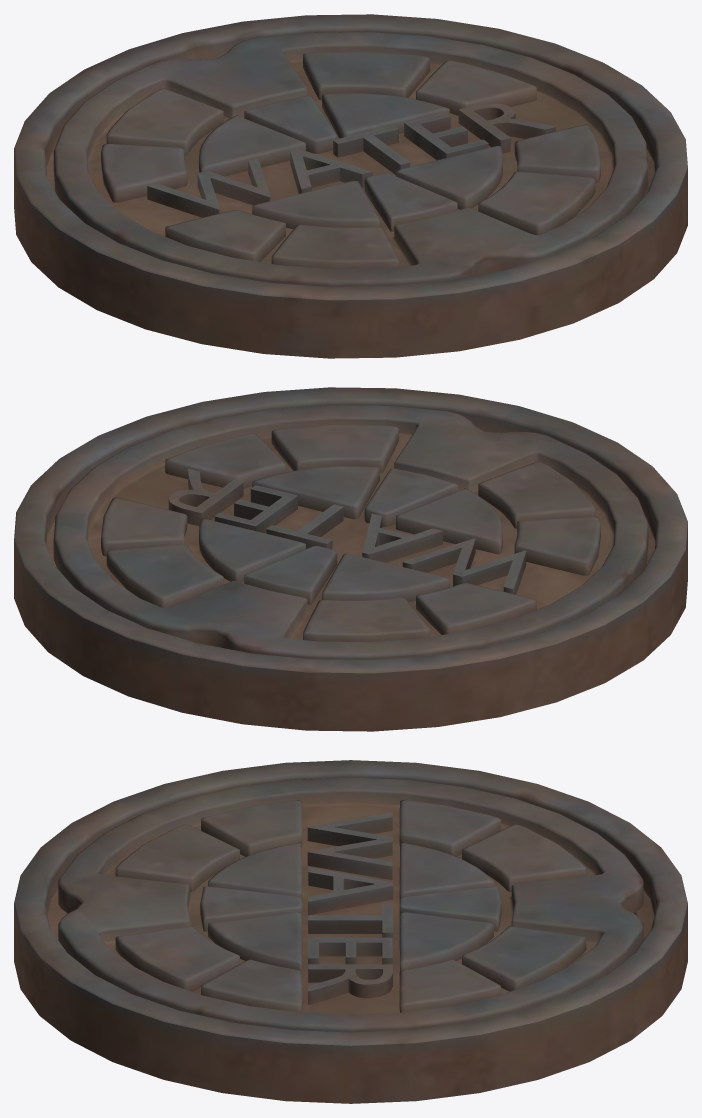
Rendered from water_manhole_cover_1k.gltf.
The picture shows the model from 3 angles, top to bottom: view 1: azimuth 30°, elevation 25°; view 2: azimuth 150°, elevation 25°; view 3: azimuth 270°, elevation 25°; orthographic projection.
Parts seen in each view (by area): view 1: water_manhole_cover, water_manhole_cover_frame; view 2: water_manhole_cover, water_manhole_cover_frame; view 3: water_manhole_cover, water_manhole_cover_frame.
Part boxes in pixels (box(x1,y1,x2,y2)): water_manhole_cover: box(53, 32, 648, 286); water_manhole_cover_frame: box(14, 14, 687, 358); water_manhole_cover: box(53, 405, 648, 659); water_manhole_cover_frame: box(14, 387, 687, 731); water_manhole_cover: box(58, 777, 643, 1032); water_manhole_cover_frame: box(14, 760, 687, 1103).
Size of the model in its own units: 0.6908 by 0.0676 by 0.6908.
1 material, 1 textured.
